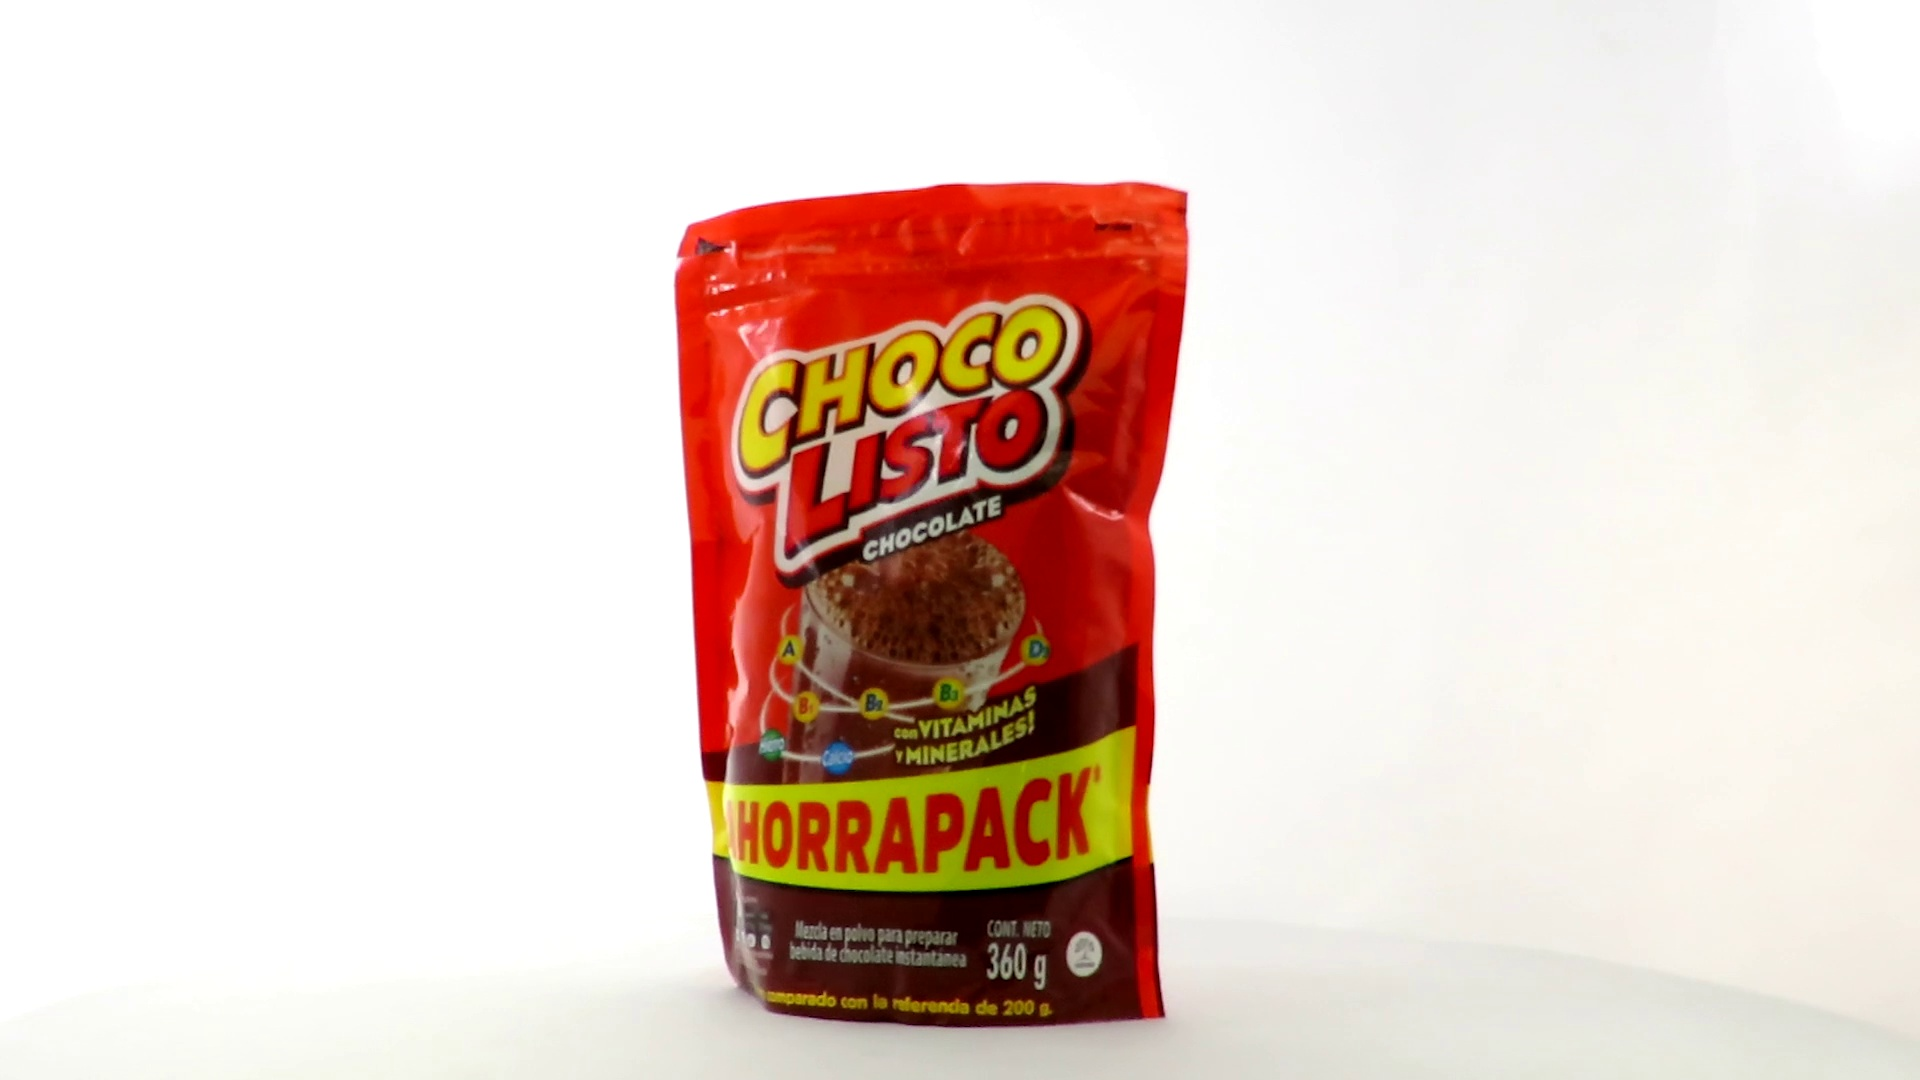COL0170103DYP36000: (669, 177, 1195, 1034)
